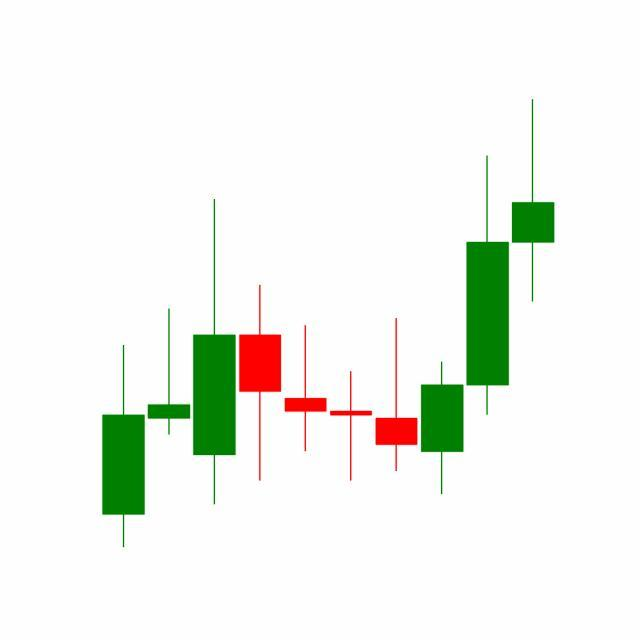Hikkake Pattern: (283, 152, 512, 498)
